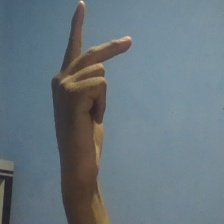K: (45, 1, 135, 186)
